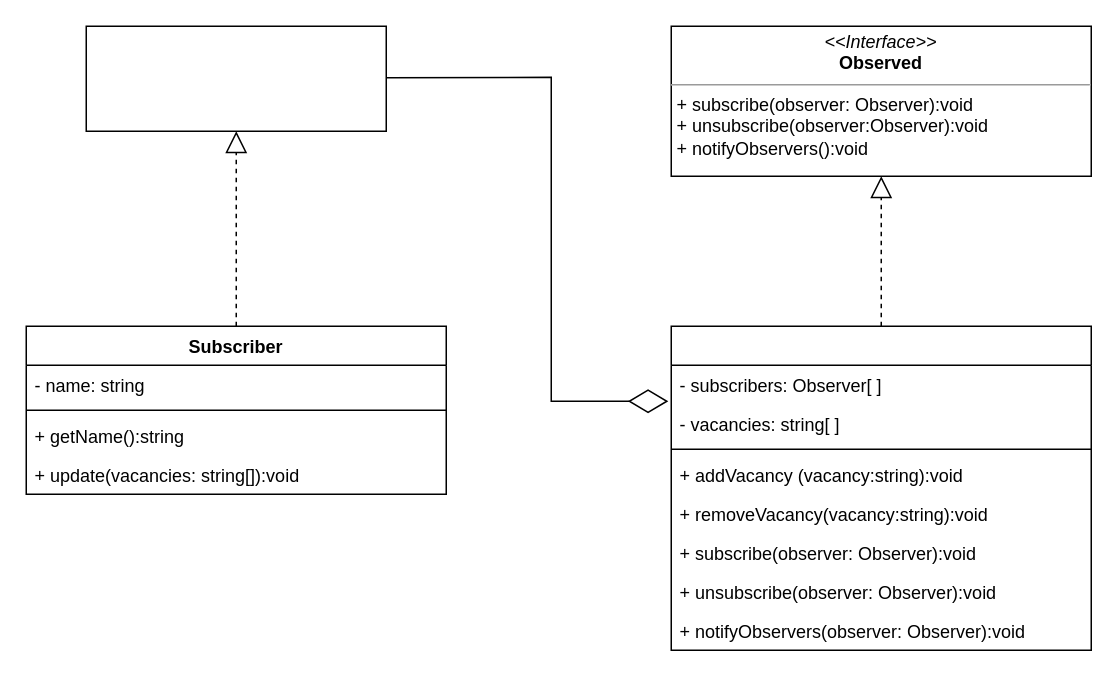
Image size: 1118x681. Some labels were removed from this diagram. Each missing label, with the box of its shape:
<<Interface>> Observer + update(vacancies: string[]):void: (85, 25, 386, 131)
JobSite: (670, 325, 1091, 650)
